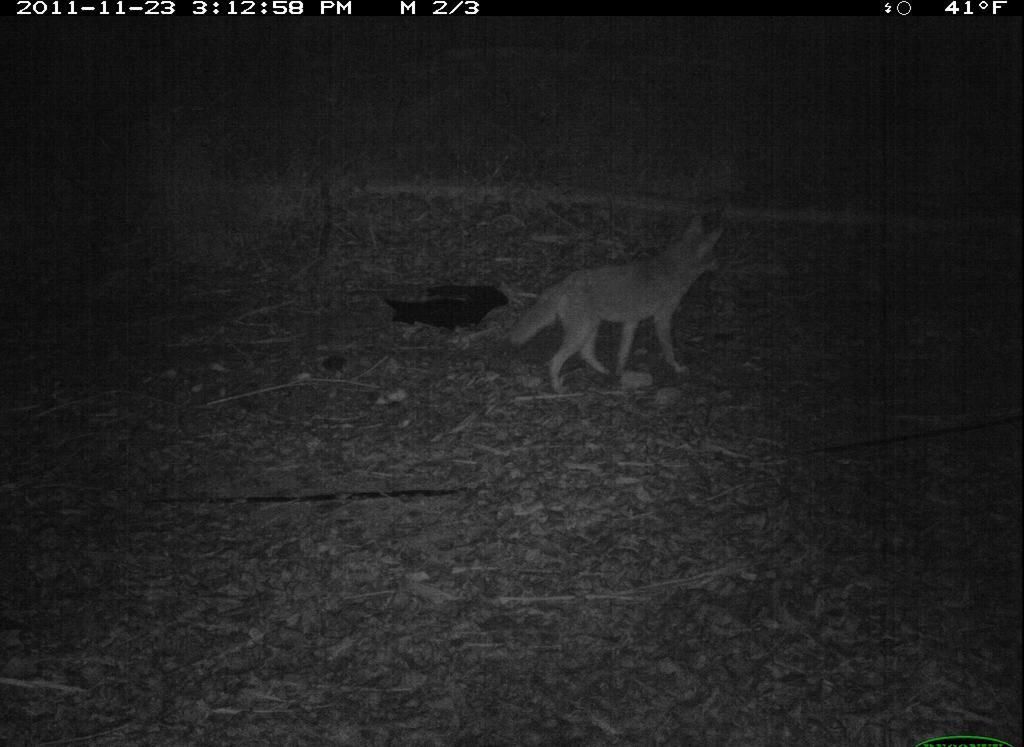coyote: (505, 205, 735, 405)
